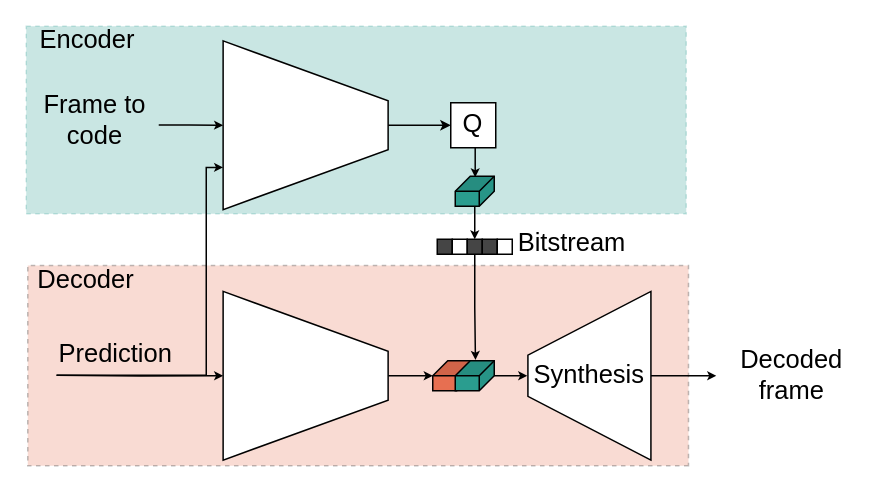
Some shapes in this 879 by 492 pixel diagram are drawn without their labels. Each missing label, with the box of its shape:
Analysis: (222, 39, 388, 210)
Conditioning: (222, 290, 388, 460)
